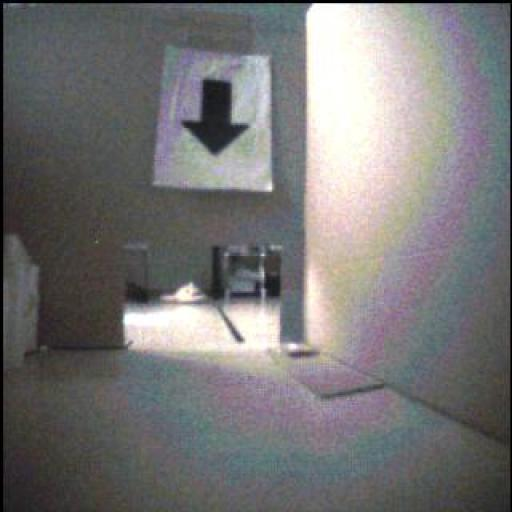arrow: (183, 81, 249, 156)
